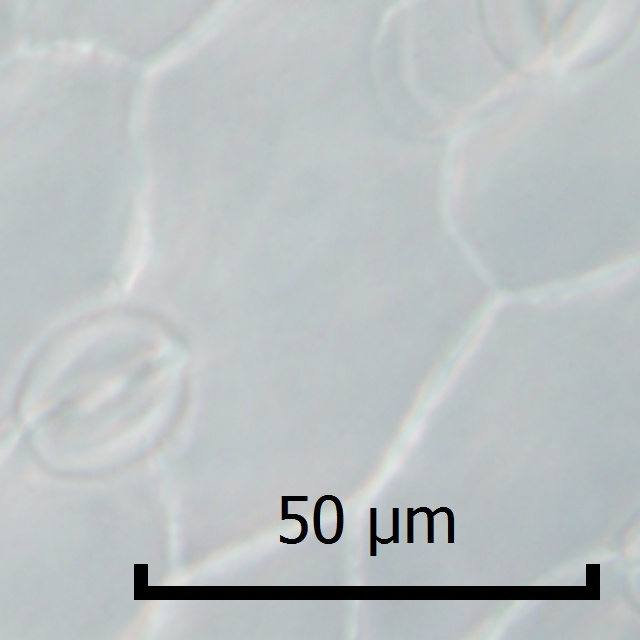center: (55, 356, 148, 426), (528, 0, 602, 44)
stomata-huw1: (15, 308, 189, 477), (481, 0, 639, 72)
